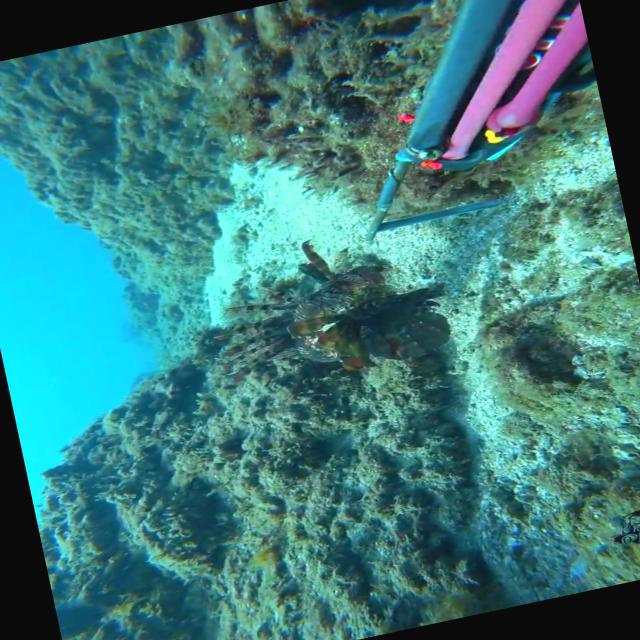Aslan Baligi: (195, 212, 471, 420)
